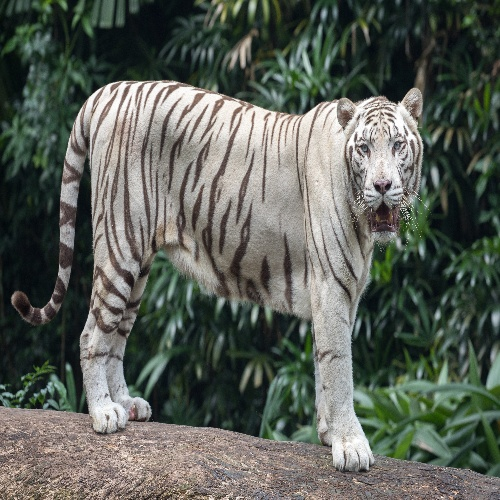tiger: (45, 88, 448, 457)
